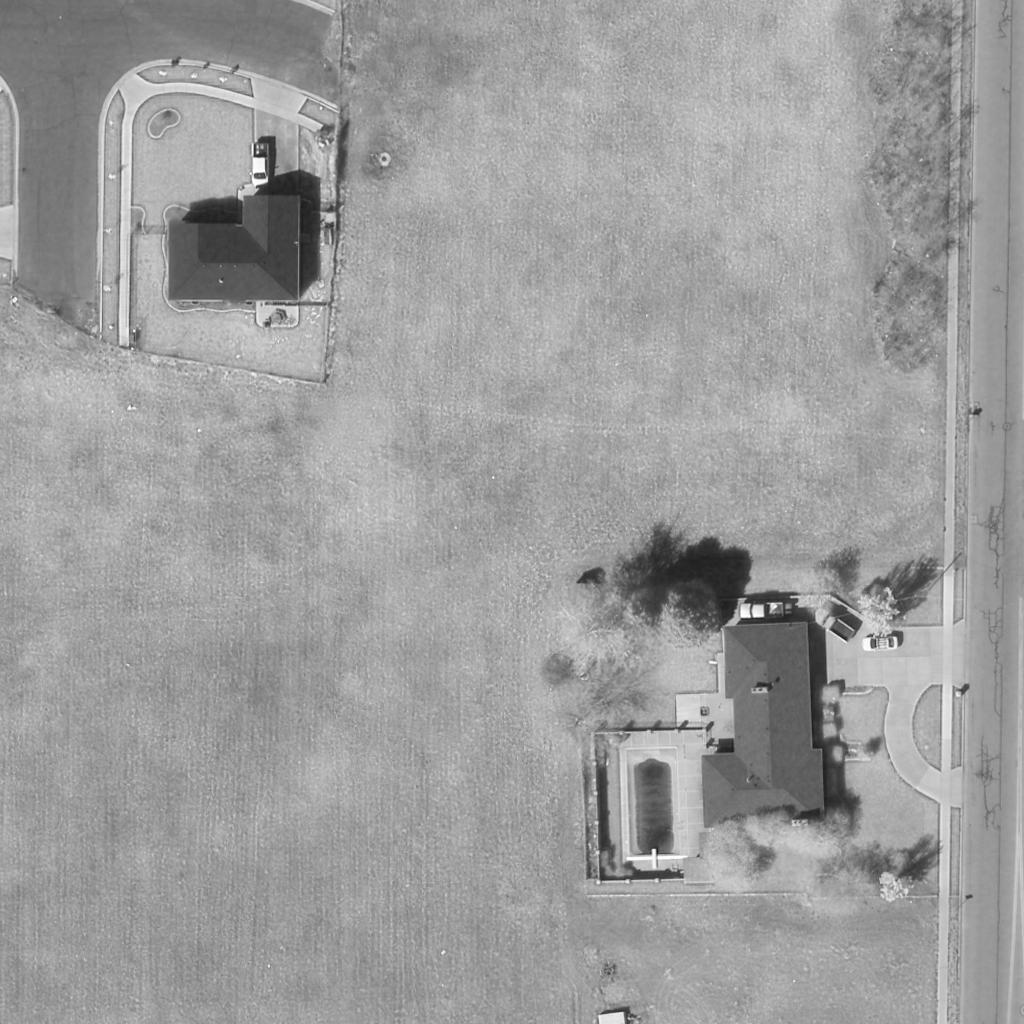vehicle: (809, 606, 857, 644), (252, 140, 270, 190), (738, 603, 786, 619), (860, 634, 904, 650)
